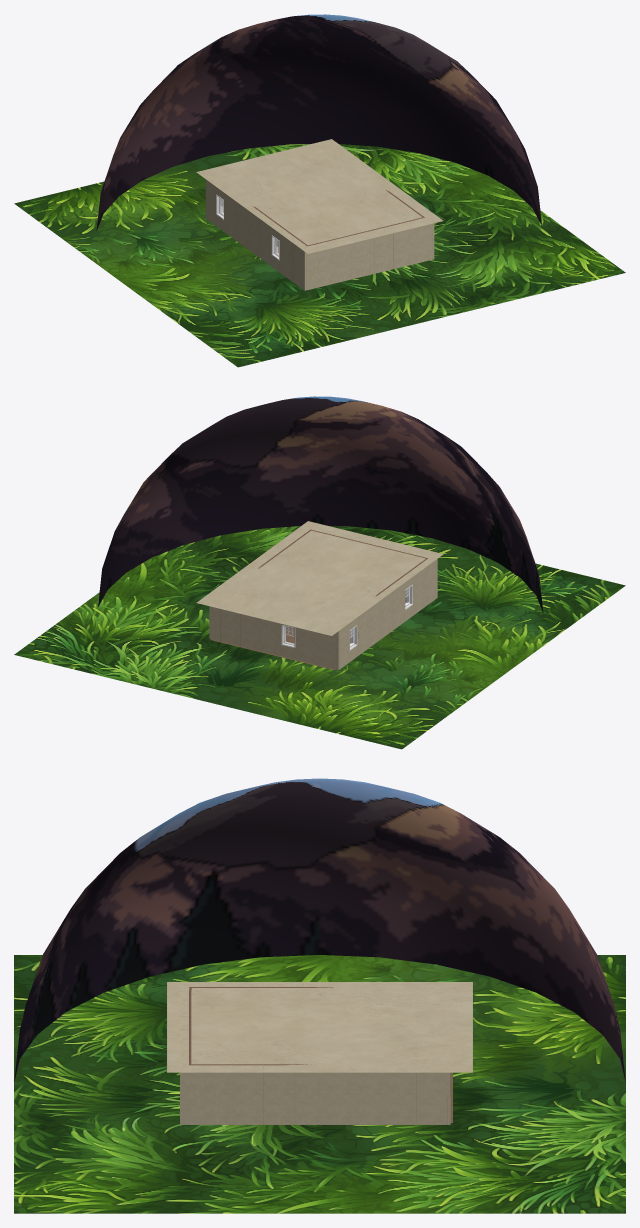
The model's file is stage_model6.gltf.
3 renders of one model, top to bottom at view 1: azimuth 30°, elevation 25°; view 2: azimuth 150°, elevation 25°; view 3: azimuth 270°, elevation 25°, orthographic. The views are drawn at different scales.
Visible parts, largest first — view 1: 球, 平面.002, Wall.005, Wall.003, Left Corner Wall.001, Right Corner Wall, Wall.004, Window Wall.002; view 2: 球, 平面.002, Wall.001, Wall.003, Right Corner Wall.001, Wall.002, Left Corner Wall.001, Window Wall, Window Wall.002, Wall.004; view 3: 球, 平面.002, Wall, Left Corner Wall, Right Corner Wall, Wall.005.
Boxes of the visible parts, x1,y1,x2,y2 form: 球: (14,14,625,367); 平面.002: (196,139,443,253); Wall.005: (312,221,412,287); Wall.003: (226,194,277,265); Left Corner Wall.001: (292,239,316,290); Right Corner Wall: (409,212,434,264); Wall.004: (281,231,299,281); Window Wall.002: (270,223,288,273); 球: (14,396,625,749); 平面.002: (196,521,443,635); Wall.001: (220,609,278,655); Wall.003: (359,580,402,654); Right Corner Wall.001: (317,625,347,670); Wall.002: (298,628,317,664); Left Corner Wall.001: (418,554,437,606); Window Wall: (279,623,298,660); Window Wall.002: (396,572,414,622); Wall.004: (407,564,425,614); 球: (14,778,625,1213); 平面.002: (167,982,472,1072); Wall: (202,1064,416,1124); Left Corner Wall: (417,1072,450,1124); Right Corner Wall: (180,1055,204,1124); Wall.005: (180,990,191,1055).
Bounding box in the file's own units: 400 × 200 × 400.
Materials: 15 (10 with a texture image).
